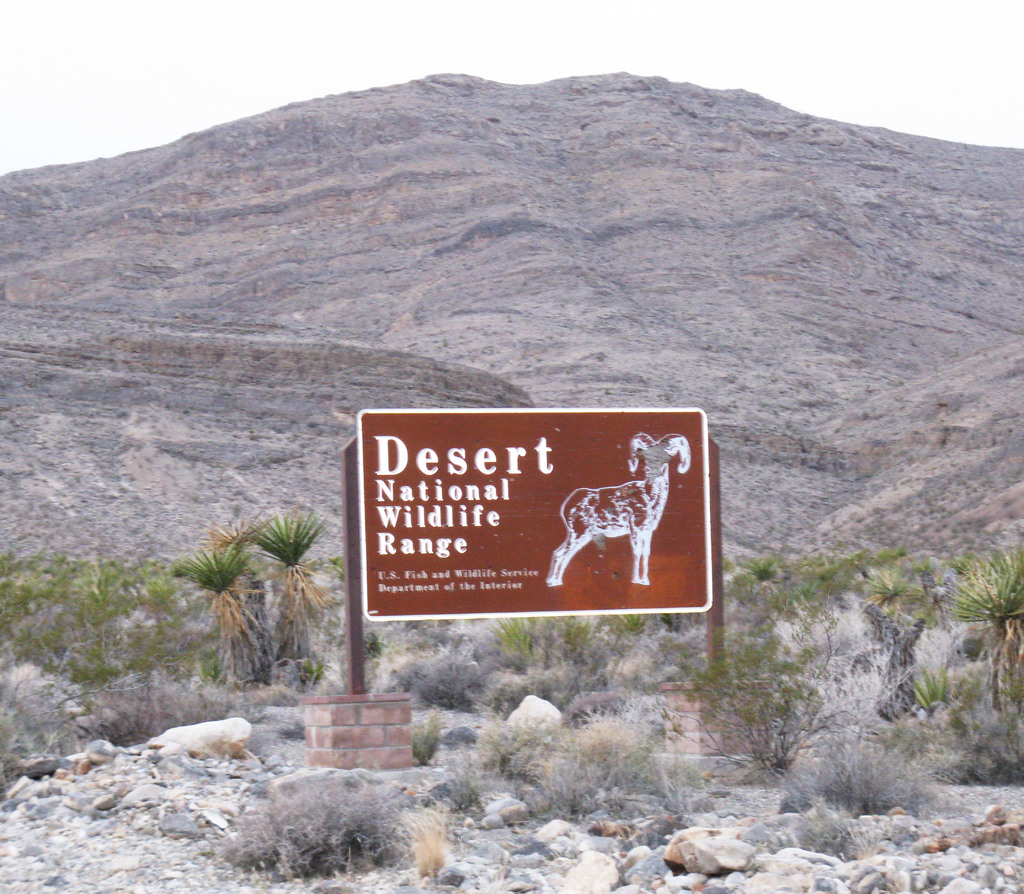Animal: (545, 428, 687, 583)
